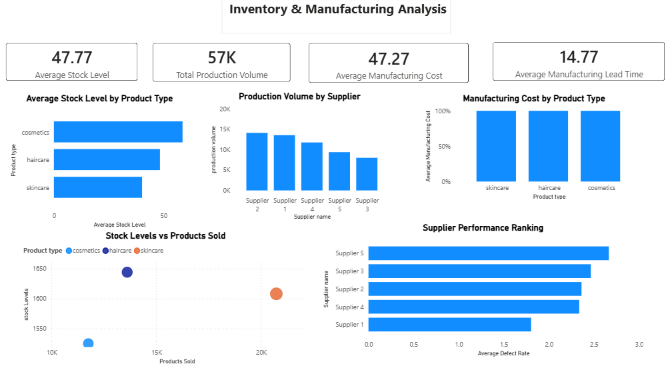

The dashboard page shown, as its layout file describes it:
{"tool":"powerbi","page":{"name":"Page 2","canvas":[1280,720],"ordinal":1},"visuals":[{"type":"textbox","box":[425.2,1.9,432.8,69.9],"z":0},{"type":"cardVisual","fields":{"Data":["Supply Chain.Average Stock Level"]},"box":[0,71.8,283.5,105.8],"z":1000},{"type":"cardVisual","fields":{"Data":["Supply Chain.Total Production Volume"]},"box":[277.8,71.8,294.8,107.7],"z":2000},{"type":"cardVisual","fields":{"Data":["Supply Chain.Average Manufacturing Lead Time"]},"box":[920.3,69.9,359.1,107.7],"z":3000},{"type":"cardVisual","fields":{"Data":["Supply Chain.Average Manufacturing Cost"]},"box":[572.6,71.8,336.4,109.6],"z":4000},{"type":"clusteredBarChart","title":"Average Stock Level by Product Type","fields":{"Category":["Supply Chain.Product type"],"Y":["Supply Chain.Average Stock Level"]},"box":[20.8,183.3,347.7,258.9],"z":5000},{"type":"clusteredColumnChart","title":"Production Volume by Supplier","fields":{"Category":["Supply Chain.Supplier name"],"Y":["Sum(Supply Chain.Production volumes)"]},"box":[398.7,179.5,347.7,247.6],"z":6000},{"type":"hundredPercentStackedColumnChart","title":"Manufacturing Cost by Product Type","fields":{"Category":["Supply Chain.Product type"],"Y":["Supply Chain.Average Manufacturing Cost"]},"box":[805,183.3,421.4,206],"z":7000},{"type":"scatterChart","title":" Stock Levels vs Products Sold ","fields":{"X":["Sum(Supply Chain.Number of products sold)"],"Y":["Sum(Supply Chain.Stock levels)"],"Size":["Sum(Supply Chain.Revenue generated)"],"Series":["Supply Chain.Product type"]},"box":[45.4,442.2,548,258.9],"z":8000},{"type":"clusteredBarChart","title":"Supplier Performance Ranking","fields":{"Category":["Supply Chain.Supplier name"],"Y":["Supply Chain.Average Defect Rate"]},"box":[612.3,427.1,614.2,258.9],"z":9000}]}

Visuals, with their boxes in screenshot pixels (x1, y1, x2, y2), scaled from the page's 1280x720 canvas onto the 667x376 screenshot:
textbox: rect(222, 1, 447, 37)
cardVisual - Supply Chain.Average Stock Level: rect(0, 37, 148, 93)
cardVisual - Supply Chain.Total Production Volume: rect(145, 37, 298, 94)
cardVisual - Supply Chain.Average Manufacturing Lead Time: rect(480, 37, 666, 93)
cardVisual - Supply Chain.Average Manufacturing Cost: rect(298, 37, 474, 95)
"Average Stock Level by Product Type" clusteredBarChart: rect(11, 96, 192, 231)
"Production Volume by Supplier" clusteredColumnChart: rect(208, 94, 389, 223)
"Manufacturing Cost by Product Type" hundredPercentStackedColumnChart: rect(419, 96, 639, 203)
" Stock Levels vs Products Sold " scatterChart: rect(24, 231, 309, 366)
"Supplier Performance Ranking" clusteredBarChart: rect(319, 223, 639, 358)
